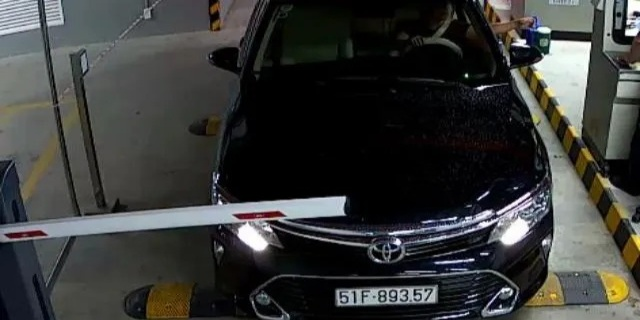bien_so: (336, 286, 436, 306)
